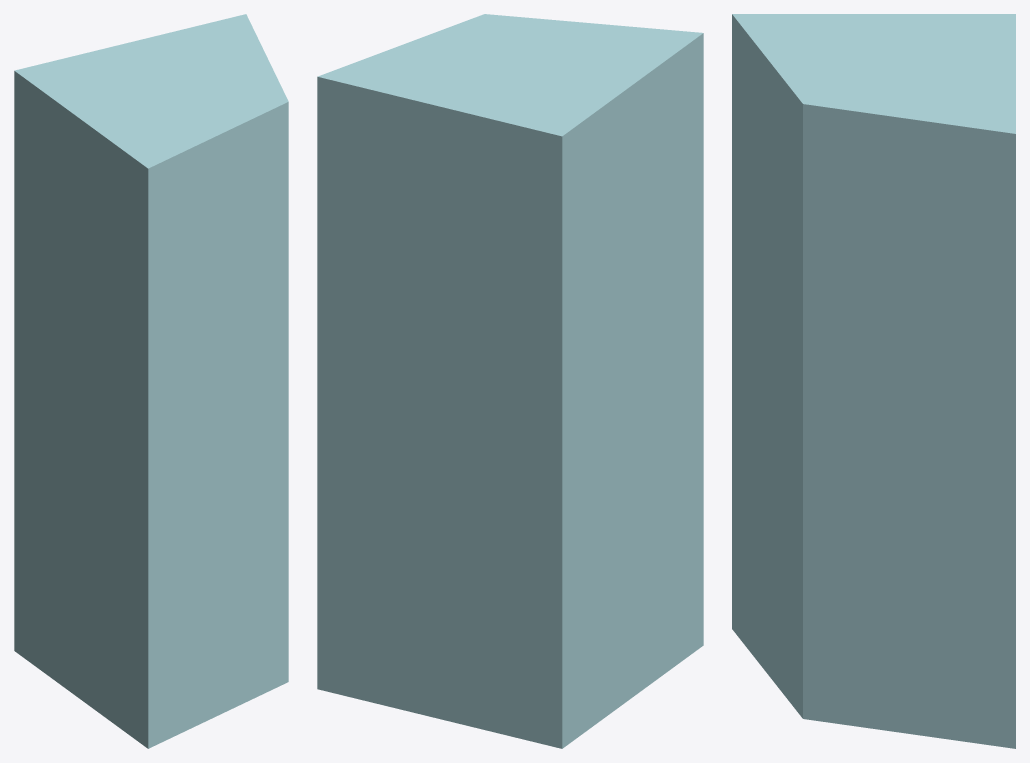
Rendered from cliff_cornerLarge_stone.dae.
3 views of the same model, side by side, from view 1: azimuth 30°, elevation 25°; view 2: azimuth 150°, elevation 25°; view 3: azimuth 270°, elevation 25° (orthographic). The views are drawn at different scales.
Parts seen in each view (by area): view 1: cliff_cornerLarge_stone; view 2: cliff_cornerLarge_stone; view 3: cliff_cornerLarge_stone.
Part boxes in pixels (x1=…): cliff_cornerLarge_stone: x1=14, y1=14, x2=288, y2=748; cliff_cornerLarge_stone: x1=317, y1=14, x2=703, y2=748; cliff_cornerLarge_stone: x1=732, y1=14, x2=1015, y2=748.
Bounding box in the file's own units: 0.4185 × 1 × 0.4185.
